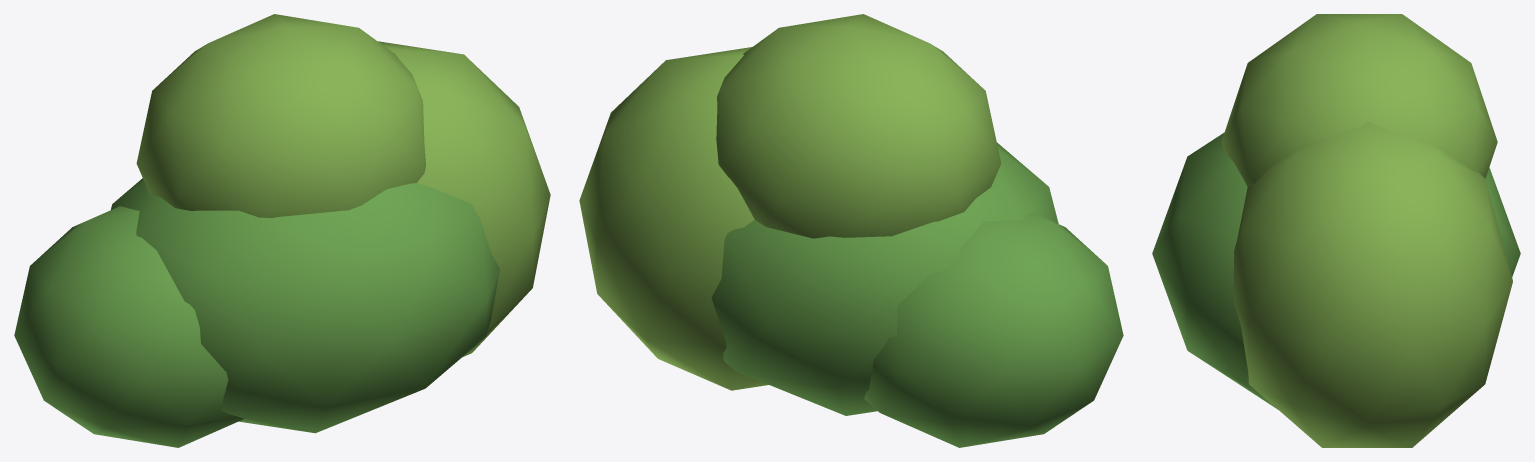
The model's file is shrub_clump_01.glb.
The picture shows the model from 3 angles, left to right: view 1: azimuth 30°, elevation 25°; view 2: azimuth 150°, elevation 25°; view 3: azimuth 270°, elevation 25°; orthographic projection. The views are drawn at different scales.
Parts seen in each view (by area): view 1: shrub_clump_01; view 2: shrub_clump_01; view 3: shrub_clump_01.
Boxes of the visible parts, x1=… form: shrub_clump_01: x1=14, y1=14, x2=550, y2=447; shrub_clump_01: x1=579, y1=14, x2=1123, y2=447; shrub_clump_01: x1=1152, y1=14, x2=1520, y2=447.
Size of the model in its own units: 0.3647 by 0.265 by 0.24.
